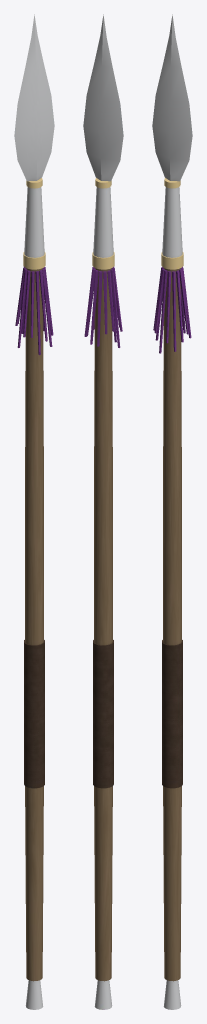
File: wpn_spear.glb
The picture shows the model from 3 angles, left to right: view 1: azimuth 30°, elevation 25°; view 2: azimuth 150°, elevation 25°; view 3: azimuth 330°, elevation 25°; orthographic projection.
Visible parts, largest first — view 1: spear; view 2: spear; view 3: spear.
Boxes of the visible parts, bbox=[...] form: spear: bbox=[14, 14, 54, 1009]; spear: bbox=[83, 14, 123, 1009]; spear: bbox=[152, 14, 192, 1009].
Bounding box in the file's own units: 0.148 × 3.48 × 0.1188.
1 material, 1 textured.
